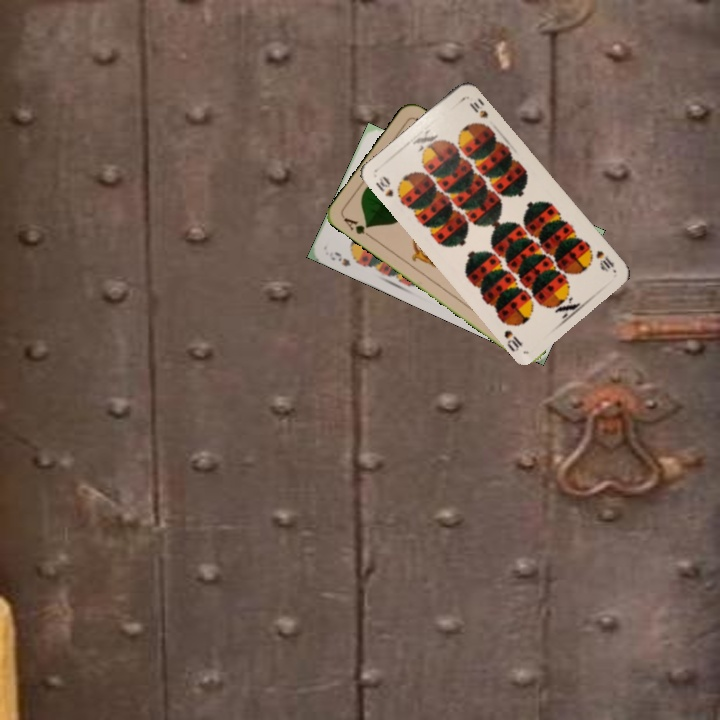GA: (339, 214, 375, 242)
S10: (372, 172, 405, 204), (592, 246, 617, 274)
S9: (330, 248, 364, 269)
